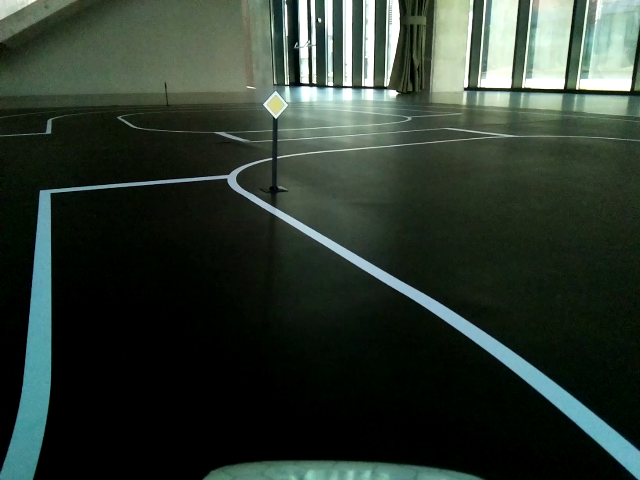priority: (264, 92, 288, 117)
